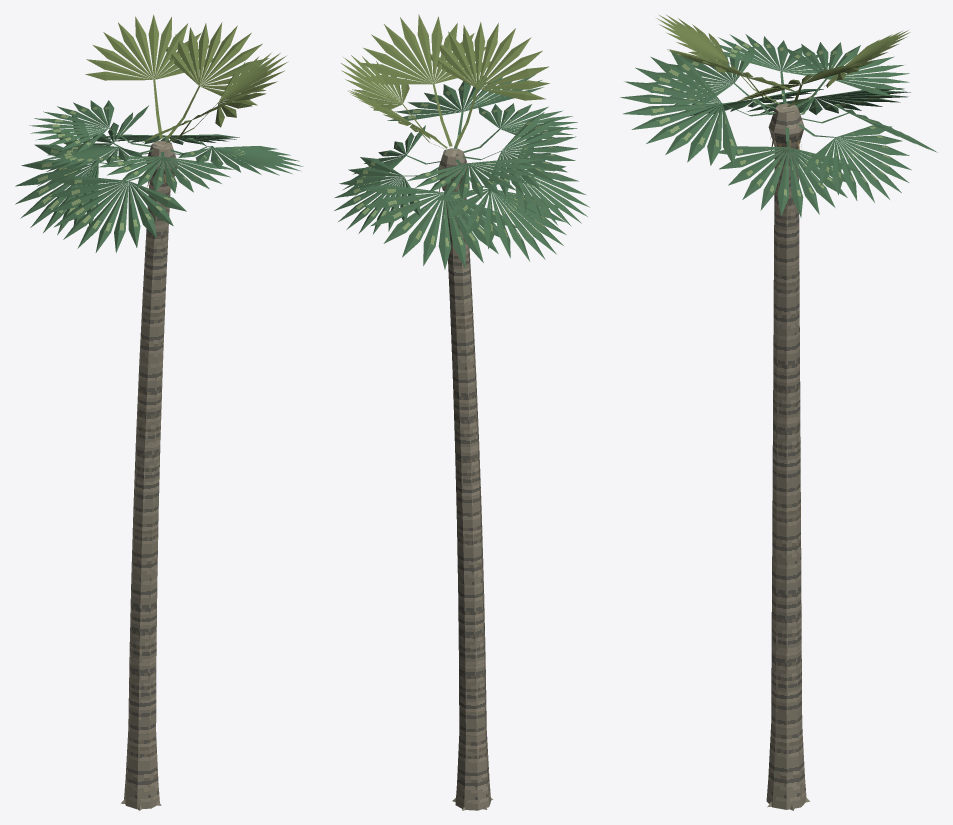
File: mexican-fan.glb
The picture shows the model from 3 angles, left to right: view 1: azimuth 30°, elevation 25°; view 2: azimuth 150°, elevation 25°; view 3: azimuth 270°, elevation 25°; orthographic projection. The views are drawn at different scales.
Visible parts, largest first — view 1: crown_mexican-fan, trunk_mexican-fan; view 2: crown_mexican-fan, trunk_mexican-fan; view 3: crown_mexican-fan, trunk_mexican-fan.
Part boxes in pixels (x1,y1,x2,y2): crown_mexican-fan: (15,14,303,252); trunk_mexican-fan: (121,140,177,810); crown_mexican-fan: (334,14,589,269); trunk_mexican-fan: (438,148,492,810); crown_mexican-fan: (620,14,937,217); trunk_mexican-fan: (766,103,809,810).
Size of the model in its own units: 5.41 by 17.1 by 6.2.
2 materials, 2 textured.
